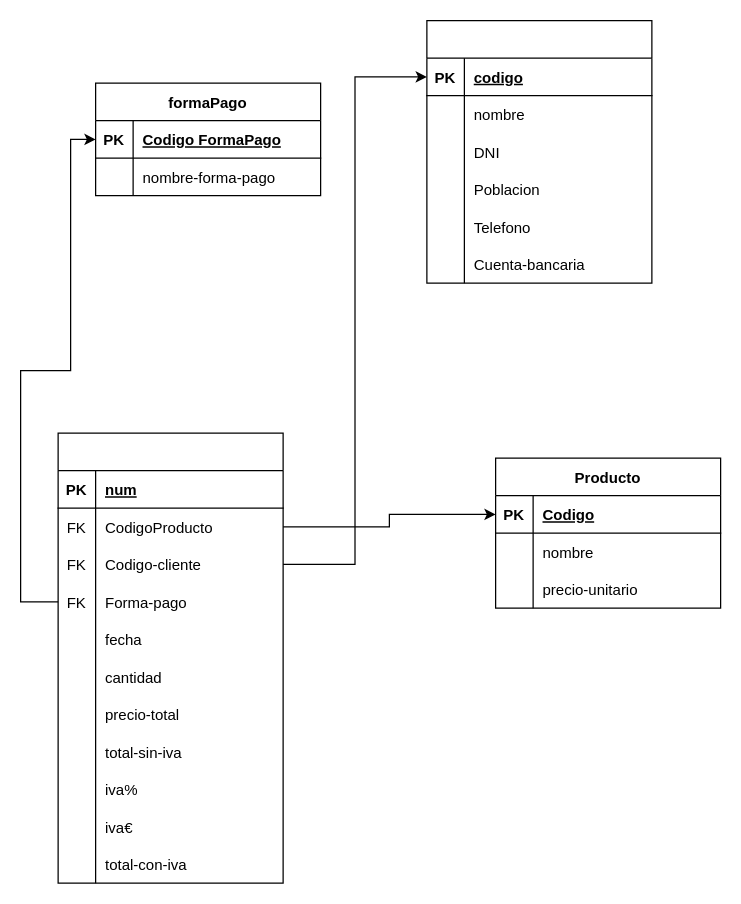
Some shapes in this 741 by 904 pixel diagram are drawn without their labels. Each missing label, with the box of its shape:
Cliente: (426, 19, 652, 283)
Factura: (57, 432, 283, 883)
